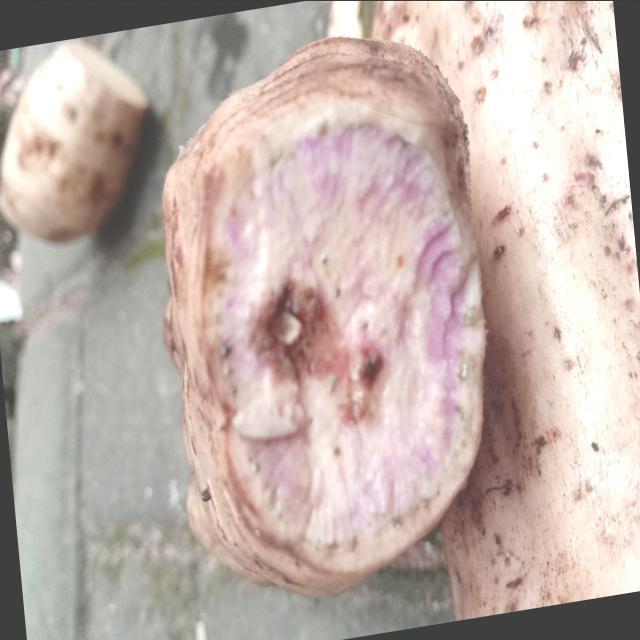Sick Sweet Potato_Tuber Rot: (164, 68, 485, 593)
